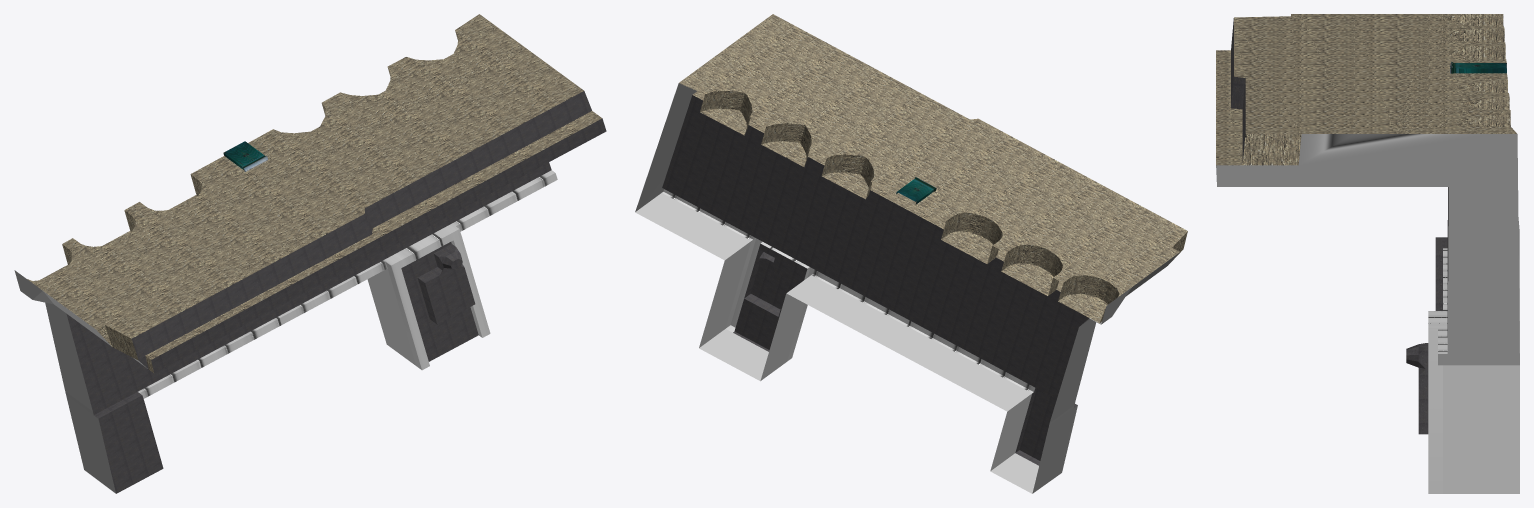
File: Myyrivahe_10.obj
The picture shows the model from 3 angles, left to right: view 1: azimuth 30°, elevation 25°; view 2: azimuth 150°, elevation 25°; view 3: azimuth 270°, elevation 25°; orthographic projection. The views are drawn at different scales.
Parts seen in each view (by area): view 1: Myyrivahe_10, xxx; view 2: Myyrivahe_10, xxx; view 3: Myyrivahe_10, xxx.
Part boxes in pixels (x1,y1,x2,y2): Myyrivahe_10: [27, 14, 606, 493]; xxx: [14, 270, 147, 493]; Myyrivahe_10: [635, 14, 1187, 493]; xxx: [635, 83, 1179, 493]; Myyrivahe_10: [1216, 14, 1519, 493]; xxx: [1216, 125, 1519, 365].
Size of the model in its own units: 31.95 by 21.24 by 12.51.
